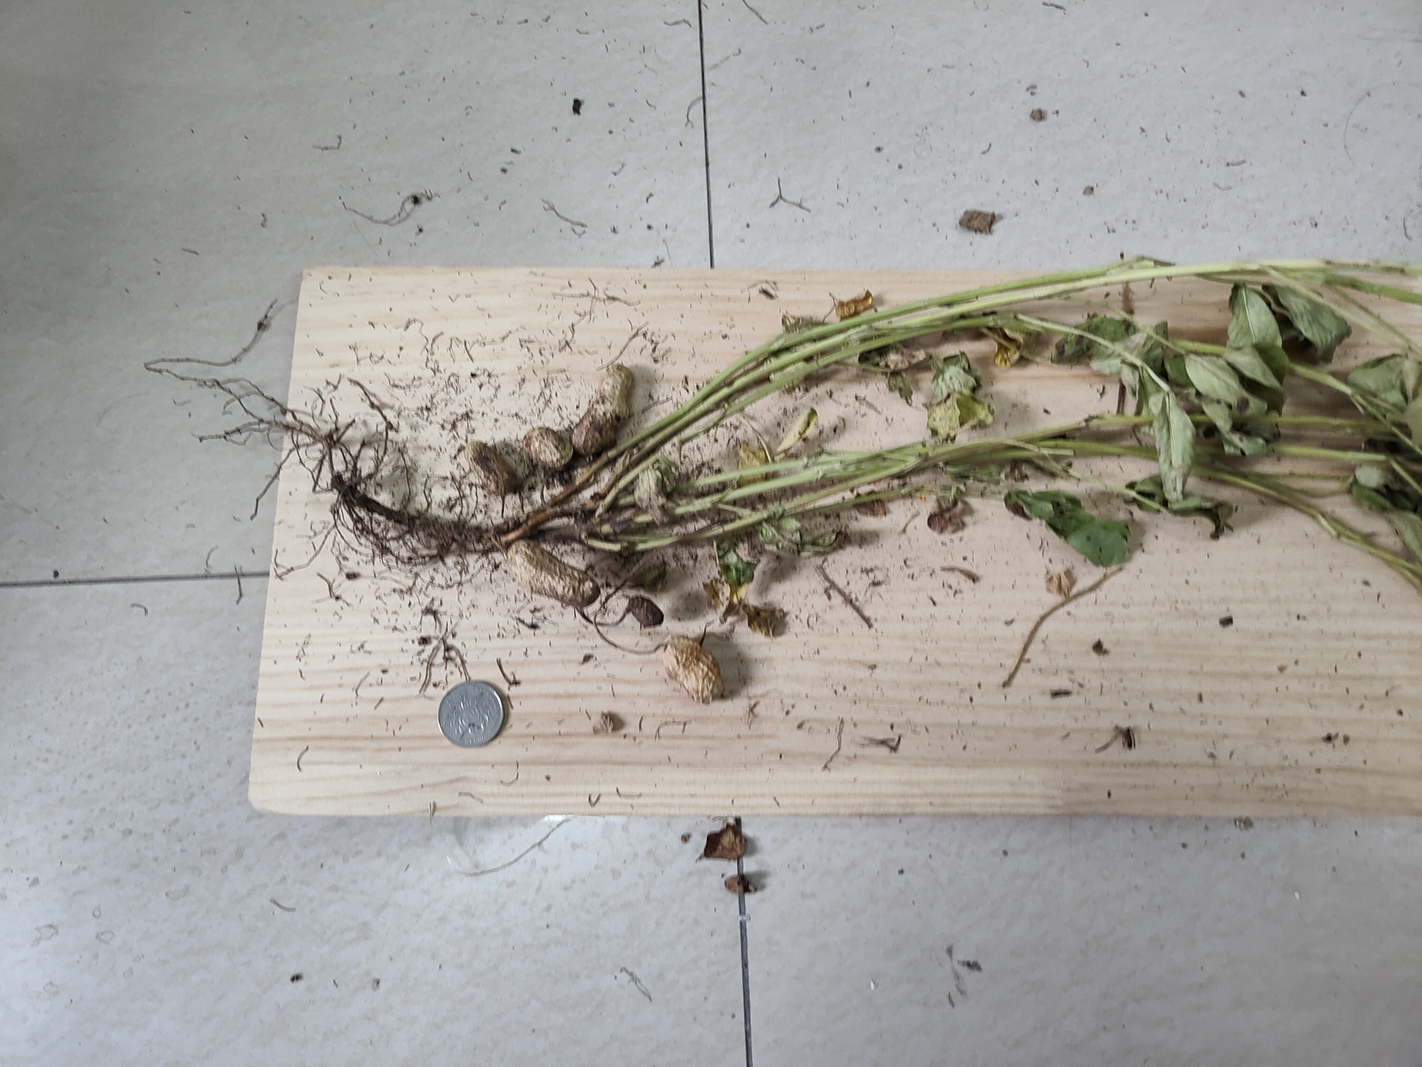h: (506, 537, 601, 607), (571, 360, 634, 454), (663, 635, 724, 705), (523, 429, 571, 468)
l: (466, 442, 517, 495), (629, 595, 663, 627)
